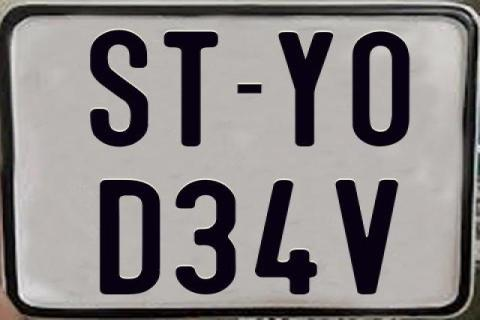0: (349, 31, 413, 146), (173, 179, 234, 299), (255, 180, 319, 294)
D: (98, 178, 159, 298)
S: (90, 30, 152, 152)
T: (161, 31, 221, 149)
V: (333, 178, 401, 296)
Y: (278, 31, 338, 145)
